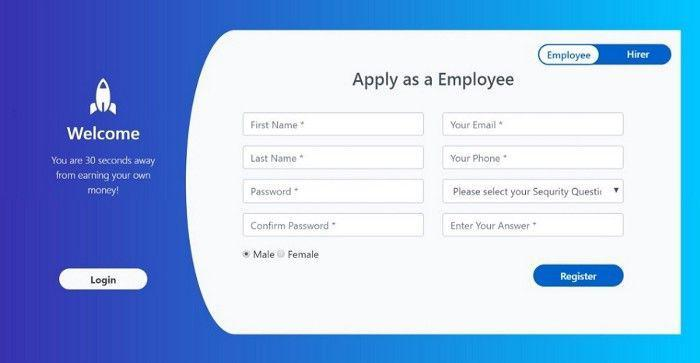button: (533, 265, 625, 289), (60, 269, 148, 290), (540, 46, 600, 65)
dropdown: (444, 180, 625, 204)
input: (244, 113, 425, 137), (244, 214, 425, 238), (444, 114, 625, 138), (444, 146, 625, 170), (244, 147, 425, 170), (244, 181, 425, 204), (444, 215, 625, 238)
label: (352, 72, 517, 93), (288, 250, 321, 261), (627, 51, 653, 62), (253, 249, 276, 261)
radio: (243, 249, 252, 260), (277, 249, 286, 260)
